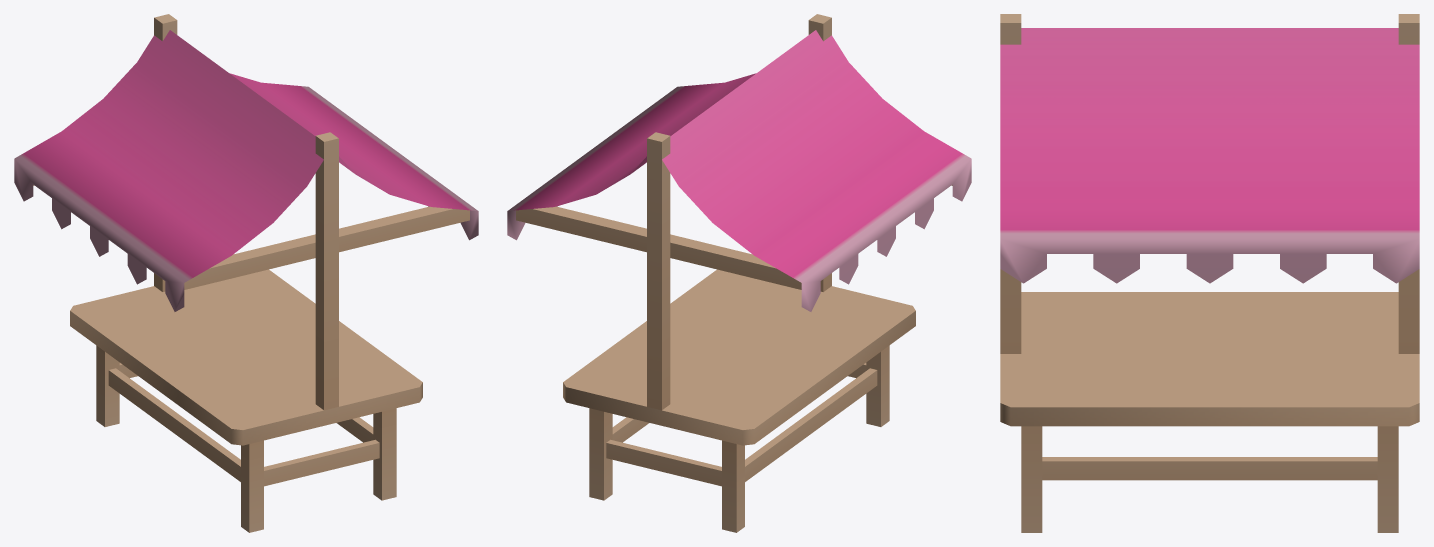
The model's file is market_stall_c.obj.
The picture shows the model from 3 angles, left to right: view 1: azimuth 30°, elevation 25°; view 2: azimuth 150°, elevation 25°; view 3: azimuth 270°, elevation 25°; orthographic projection. The views are drawn at different scales.
Visible parts, largest first — view 1: stall-red; view 2: stall-red; view 3: stall-red.
Part boxes in pixels (x1,y1,x2,y2): stall-red: (14, 14, 478, 532); stall-red: (507, 14, 971, 532); stall-red: (1000, 14, 1419, 532).
Bounding box in the file's own units: 7.07 × 8.74 × 7.07.
1 material, 1 textured.
